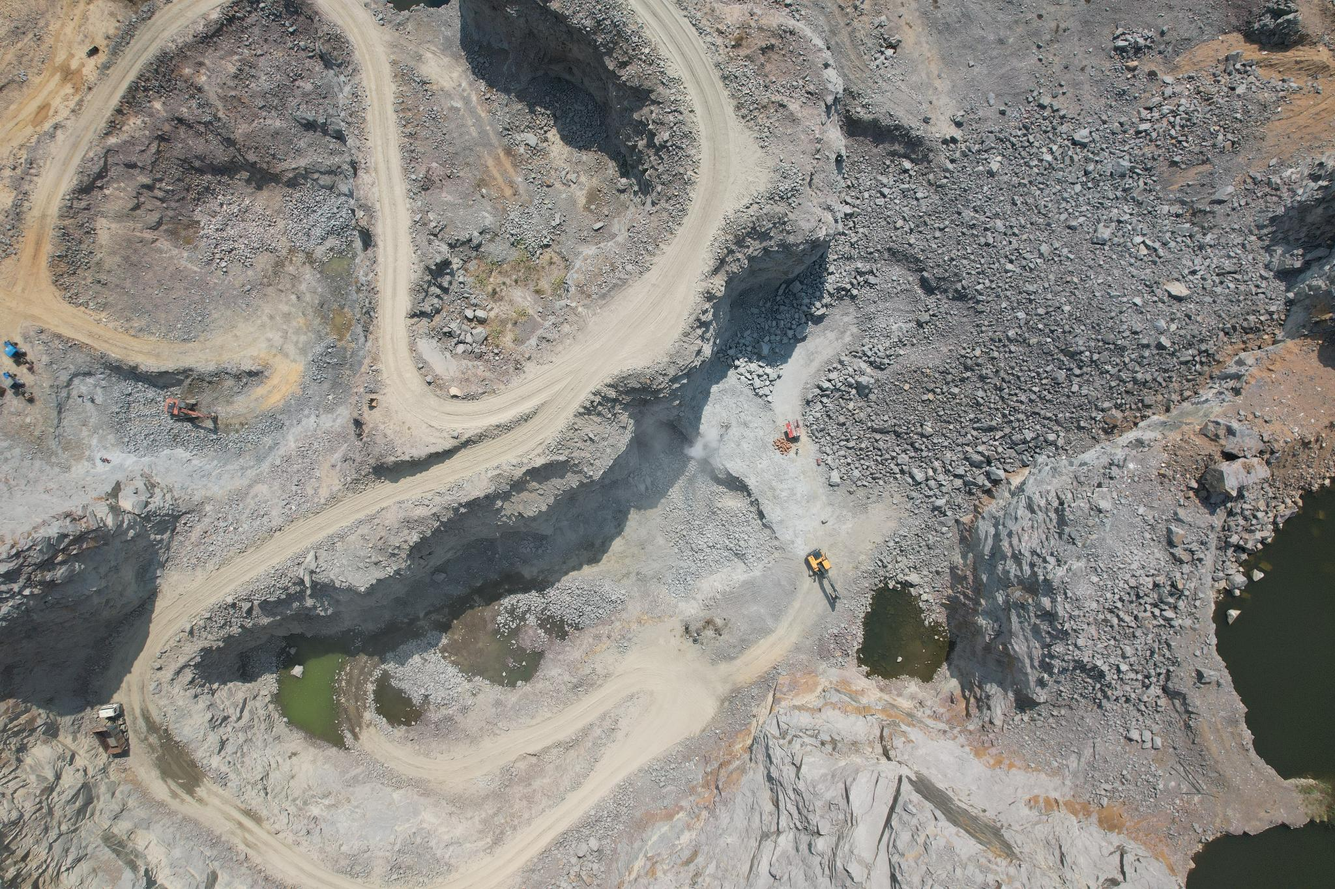benches: (116, 0, 764, 889), (370, 586, 813, 889), (0, 0, 303, 418)
excavator: (803, 555, 849, 607)
truck: (94, 708, 127, 756)
